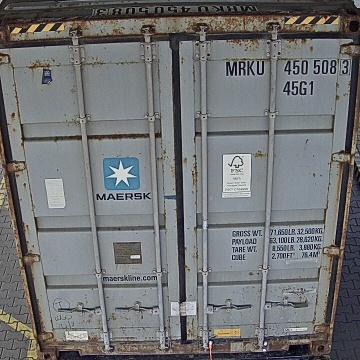serial_id: (226, 59, 350, 75)
